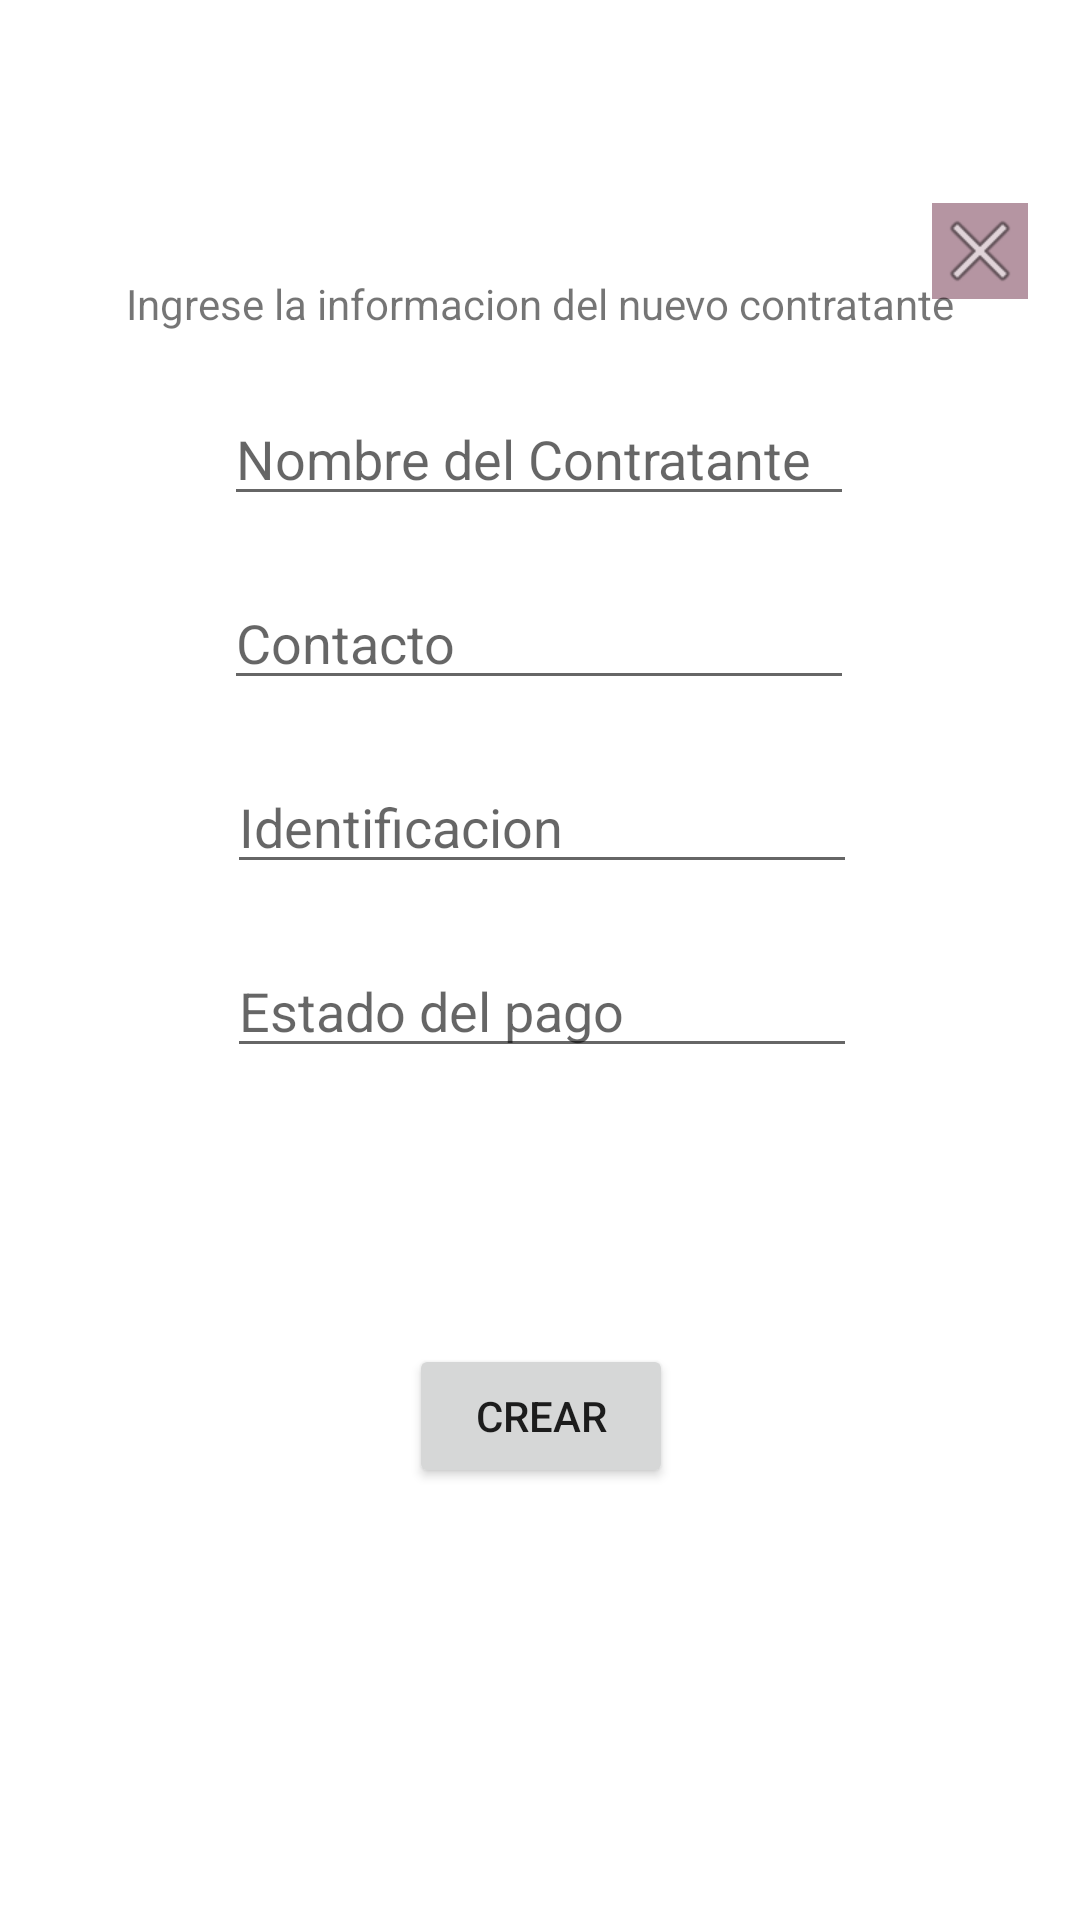

Icons on this 1080 × 1920 Android screen, each with its box as (x1=x1, y1=y1, x2=x2, y2=y2):
close clear cancel: (x1=932, y1=203, x2=1028, y2=299)
